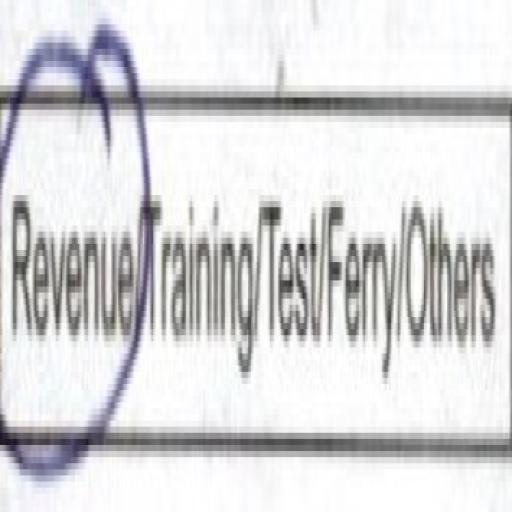check: (0, 0, 140, 482)
